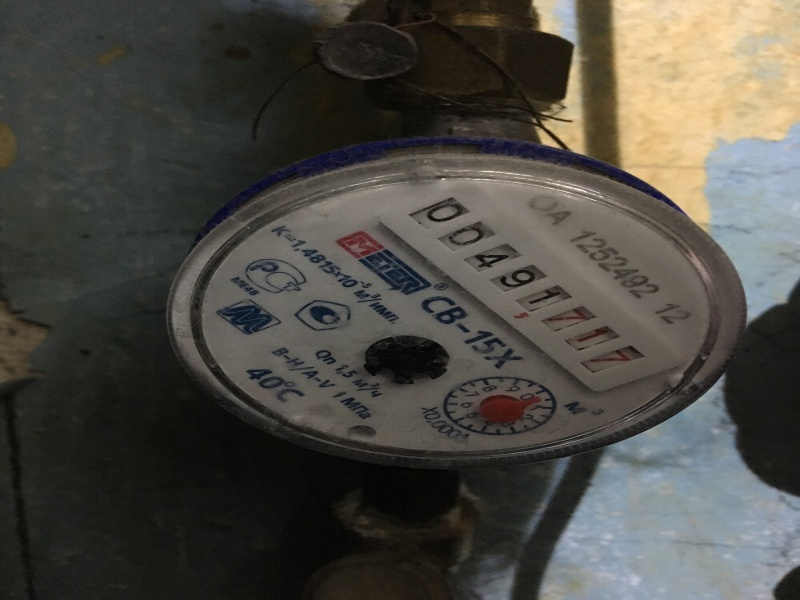meter: (416, 234, 673, 301)
